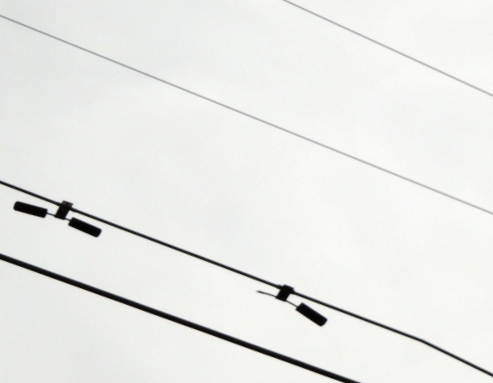damper: (11, 193, 103, 239)
damper_defect: (250, 281, 328, 329)
